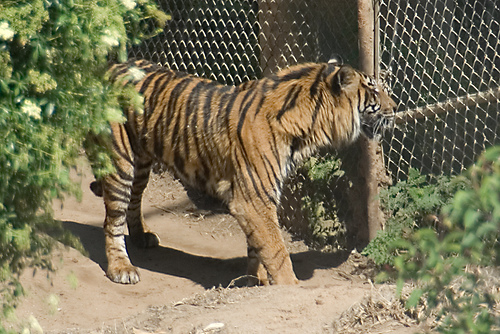Tigre: (100, 55, 416, 261)
